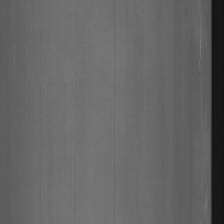silk_spot: (193, 16, 207, 76), (199, 181, 210, 218)
